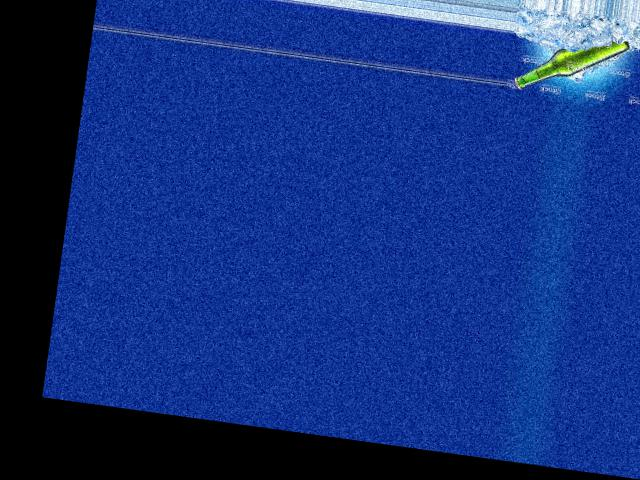beer: (511, 26, 630, 103)
